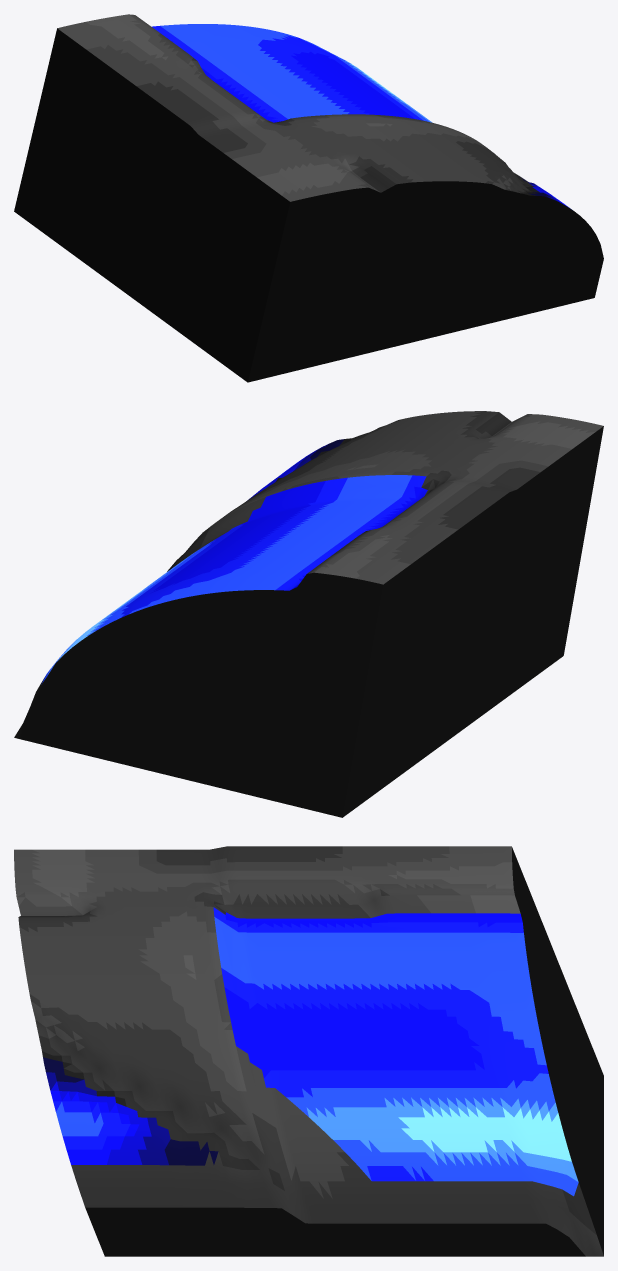
File: time_capsule_208.glb
The picture shows the model from 3 angles, top to bottom: view 1: azimuth 30°, elevation 25°; view 2: azimuth 150°, elevation 25°; view 3: azimuth 270°, elevation 25°; orthographic projection. The views are drawn at different scales.
Visible parts, largest first — view 1: time_capsule_208; view 2: time_capsule_208; view 3: time_capsule_208.
Boxes of the visible parts, x1=… form: time_capsule_208: x1=14, y1=14, x2=603, y2=382; time_capsule_208: x1=14, y1=411, x2=603, y2=817; time_capsule_208: x1=14, y1=846, x2=603, y2=1256.
Size of the model in its own units: 24 by 14.2 by 33.1.
